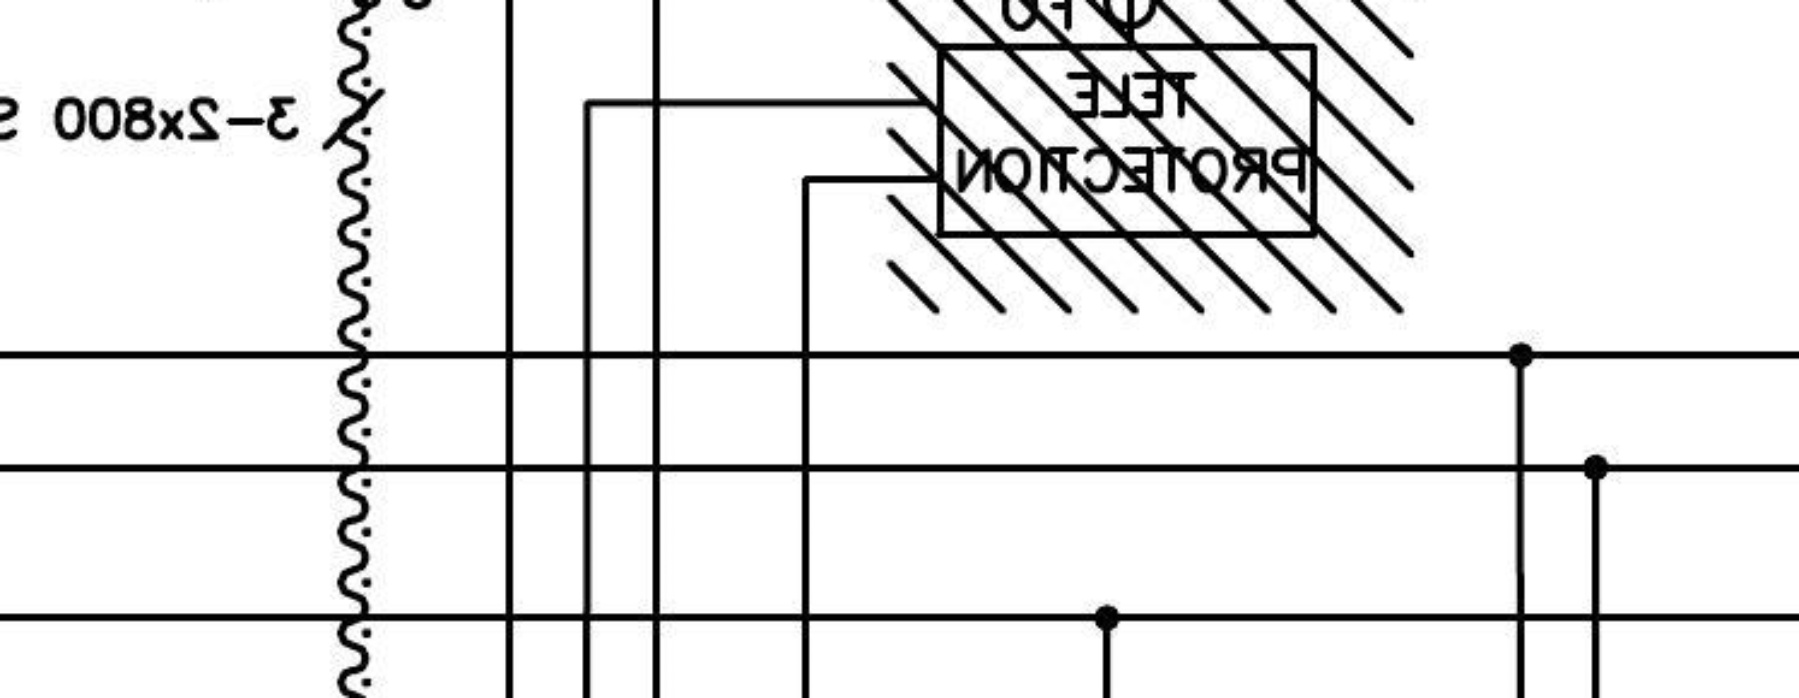tele_protection: (930, 38, 1324, 247)
